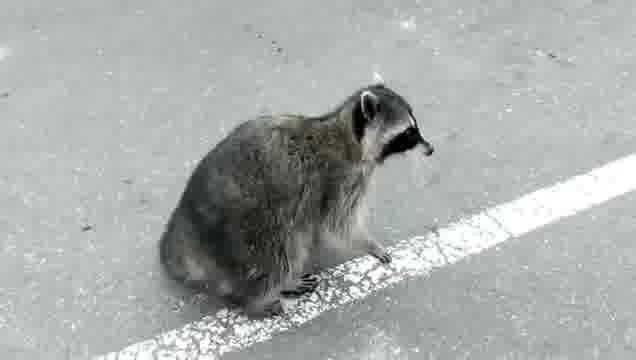raccoon: (155, 67, 439, 319)
